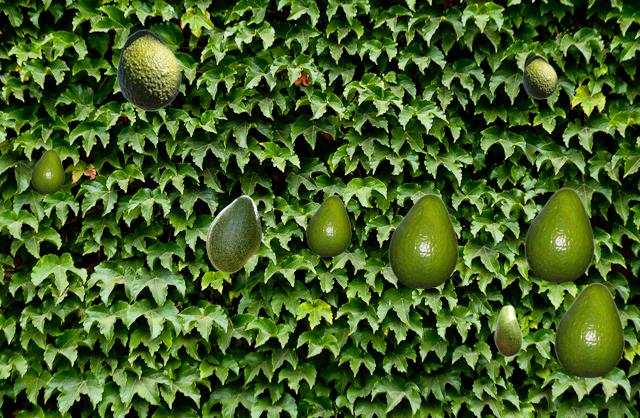avocado: (524, 187, 593, 281), (388, 193, 457, 287), (554, 282, 623, 376), (116, 29, 180, 110), (206, 195, 260, 272), (306, 195, 350, 255), (522, 55, 556, 98), (494, 304, 521, 356), (31, 149, 63, 192)
